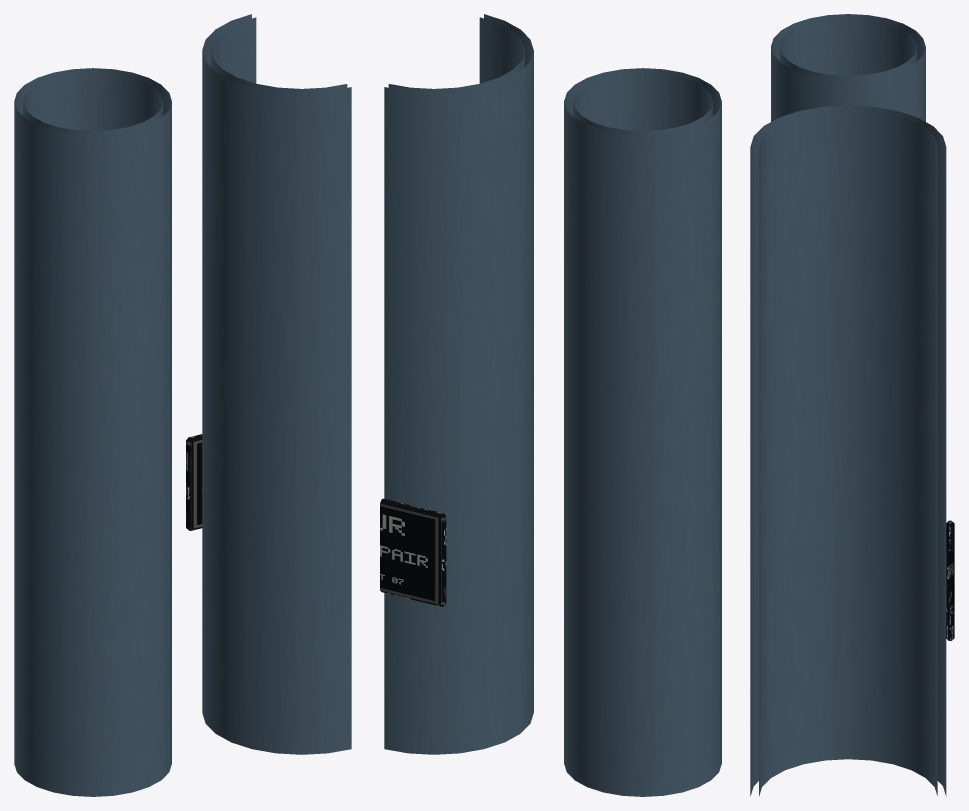
The model's file is cell_6.obj.
3 renders of one model, left to right at view 1: azimuth 30°, elevation 25°; view 2: azimuth 150°, elevation 25°; view 3: azimuth 270°, elevation 25°, orthographic.
Parts seen in each view (by area): view 1: cell_6; view 2: cell_6; view 3: cell_6.
Boxes of the visible parts, x1=… form: cell_6: x1=14, y1=14, x2=351, y2=796; cell_6: x1=380, y1=14, x2=721, y2=796; cell_6: x1=750, y1=14, x2=954, y2=796.
Bounding box in the file's own units: 0.438 × 1 × 0.2845.
